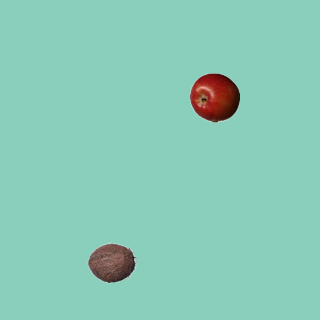Apple Braeburn: (189, 72, 239, 122)
Cocos: (86, 237, 136, 287)
